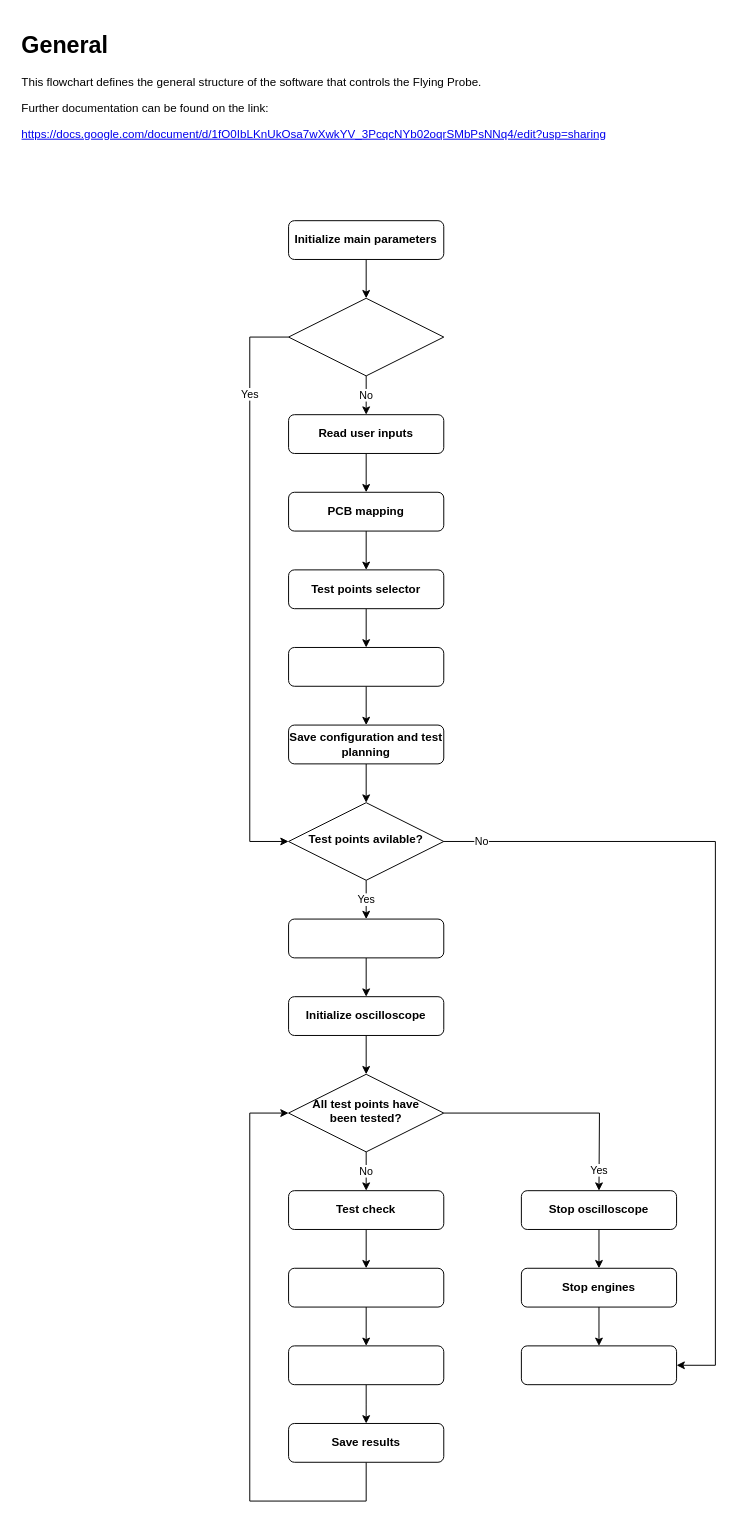
Some shapes in this 751 by 1526 pixel diagram are drawn without their labels. Here are the shapes that lost their labels. From the top down, the box of each, then its label:
(288, 297, 444, 376): Load previous test?
(288, 647, 444, 686): Plan probes trajectories
(288, 918, 444, 958): Initialize engines
(288, 1267, 444, 1307): Move probe
(288, 1345, 444, 1385): Measure
(520, 1345, 677, 1385): Generate report
